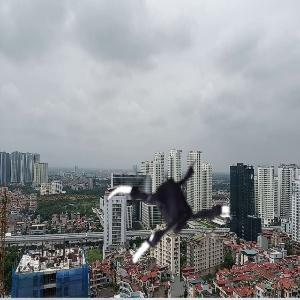drone: (104, 141, 244, 281)
